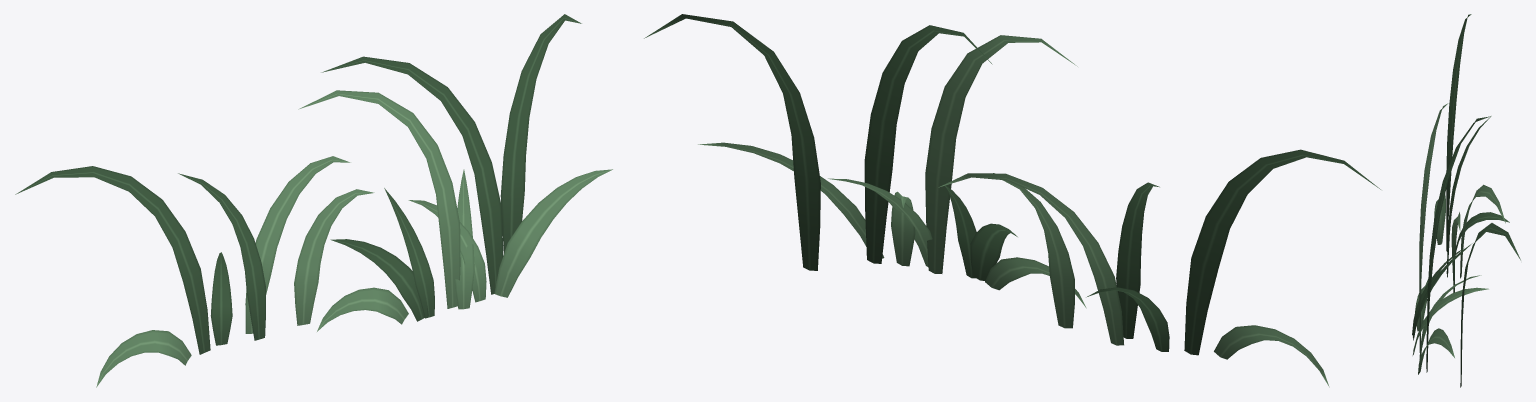
Rendered from grass_tuft_high.glb.
3 renders of one model, left to right at view 1: azimuth 30°, elevation 25°; view 2: azimuth 150°, elevation 25°; view 3: azimuth 270°, elevation 25°, orthographic. The views are drawn at different scales.
Parts seen in each view (by area): view 1: grass_tuft; view 2: grass_tuft; view 3: grass_tuft.
Boxes of the visible parts, x1,y1,x2,y2 form: grass_tuft: [15, 14, 612, 387]; grass_tuft: [644, 14, 1380, 387]; grass_tuft: [1412, 14, 1520, 387].
Size of the model in its own units: 0.8747 by 0.3434 by 0.1613.
Materials: 1 (1 with a texture image).
